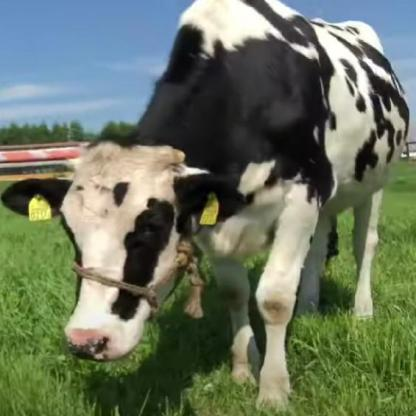cow: (57, 19, 410, 411)
